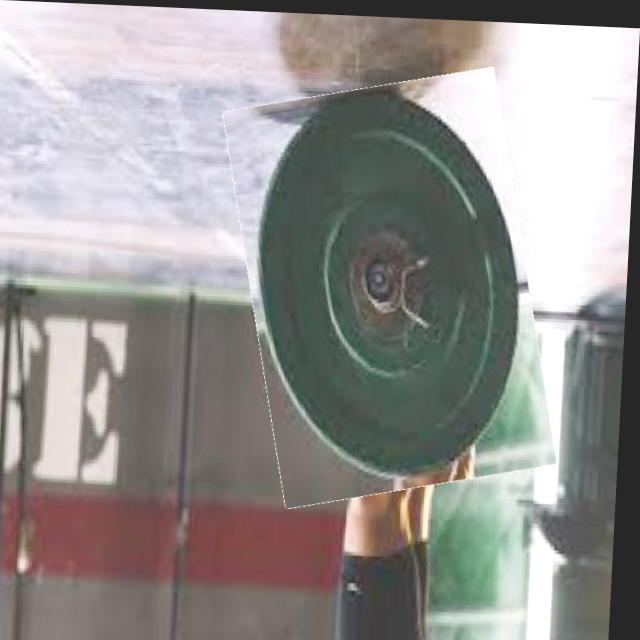barbell: (229, 67, 559, 503)
